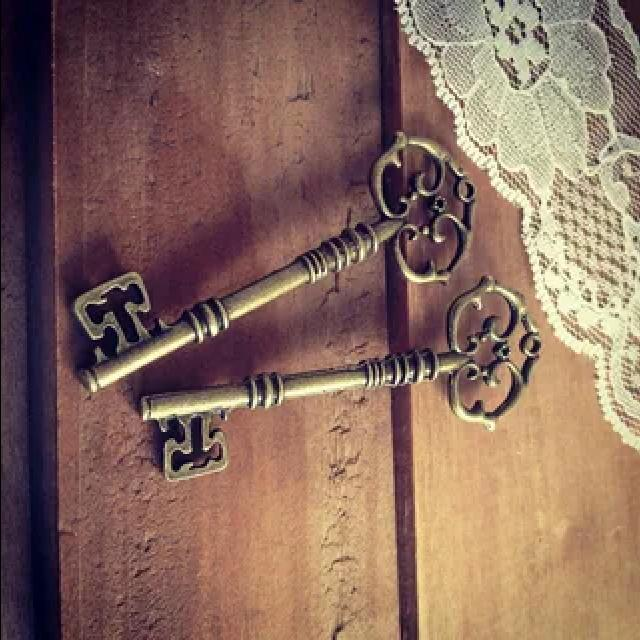key: (61, 136, 491, 400)
